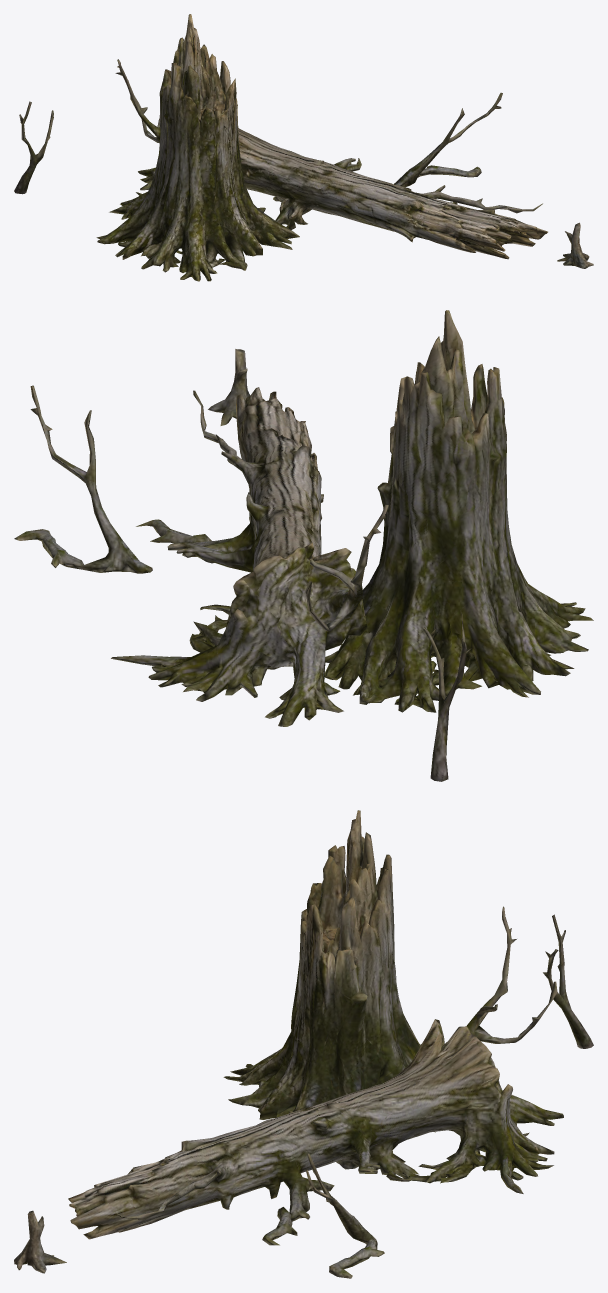
The model's file is tree_remnant.glb.
3 views of the same model, one above another, from view 1: azimuth 30°, elevation 25°; view 2: azimuth 150°, elevation 25°; view 3: azimuth 270°, elevation 25° (orthographic). The views are drawn at different scales.
Visible parts, largest first — view 1: tree_remnant; view 2: tree_remnant; view 3: tree_remnant.
Boxes of the visible parts, box(x1,y1,x2,y2) form: tree_remnant: box(14, 14, 593, 281); tree_remnant: box(14, 310, 593, 781); tree_remnant: box(14, 810, 593, 1278).
Size of the model in its own units: 189 by 104 by 190.
Materials: 1 (1 with a texture image).
